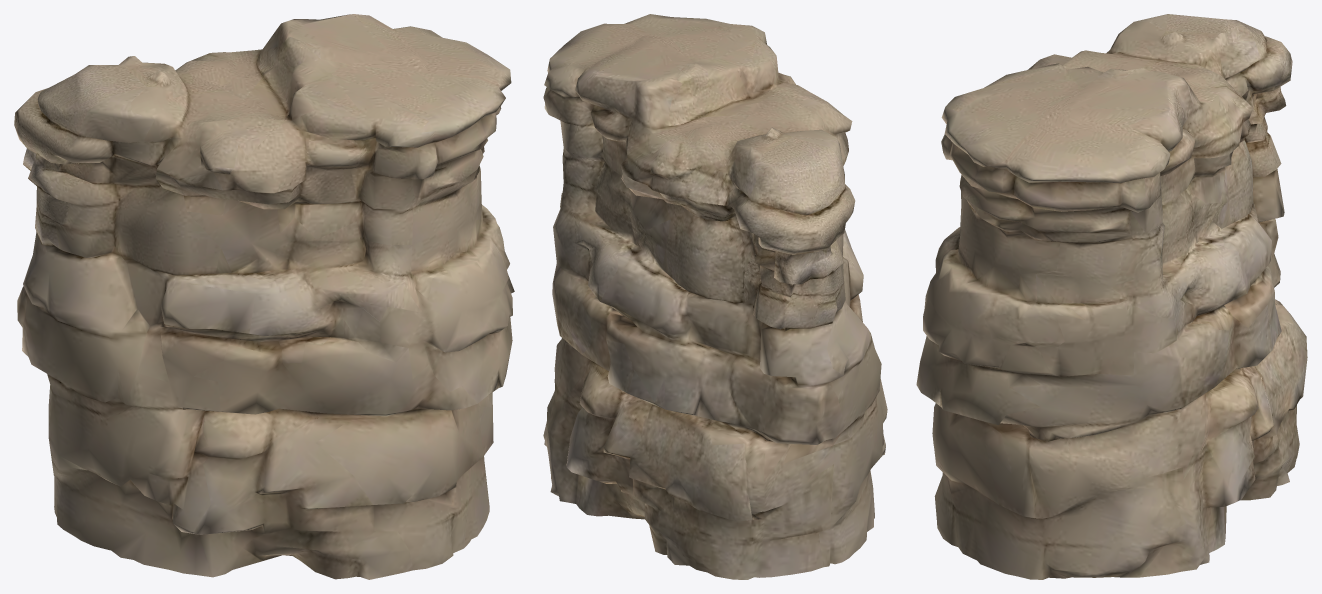
Rendered from cliff_rock.glb.
The picture shows the model from 3 angles, left to right: view 1: azimuth 30°, elevation 25°; view 2: azimuth 150°, elevation 25°; view 3: azimuth 270°, elevation 25°; orthographic projection. The views are drawn at different scales.
Parts seen in each view (by area): view 1: cliff_rock; view 2: cliff_rock; view 3: cliff_rock.
Boxes of the visible parts, x1,y1,x2,y2 form: cliff_rock: (14,14,514,579); cliff_rock: (543,14,887,579); cliff_rock: (916,14,1307,579).
Bounding box in the file's own units: 1.04 × 1.2 × 0.9483.
1 material, 1 textured.
